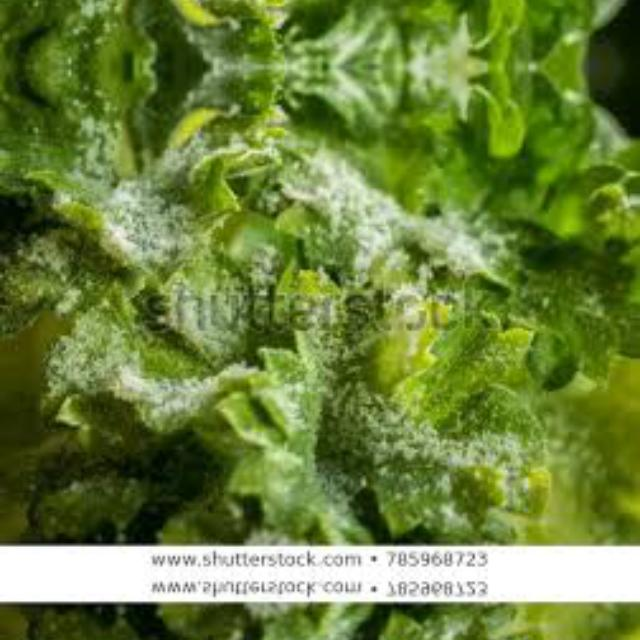Downy_mildew: (15, 86, 563, 518), (15, 0, 563, 45), (15, 630, 563, 640)
